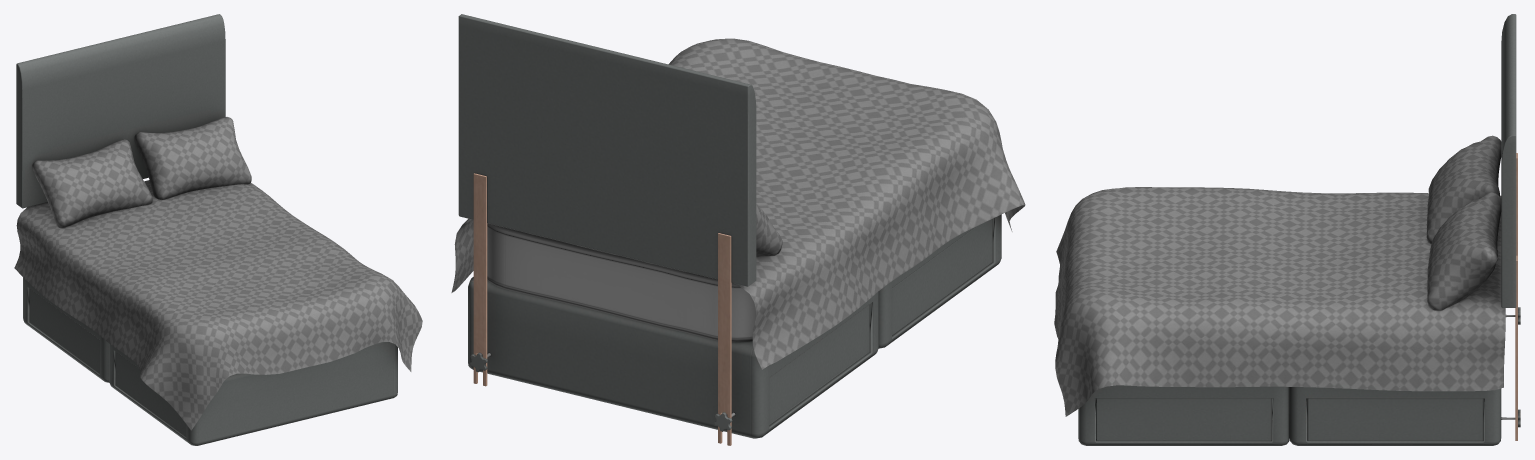
File: bed_double.glb
3 renders of one model, left to right at view 1: azimuth 30°, elevation 25°; view 2: azimuth 150°, elevation 25°; view 3: azimuth 270°, elevation 25°, orthographic. The views are drawn at different scales.
Visible parts, largest first — view 1: SM_Kingsize_Bed; view 2: SM_Kingsize_Bed; view 3: SM_Kingsize_Bed.
Boxes of the visible parts, x1,y1,x2,y2 form: SM_Kingsize_Bed: (14, 14, 422, 445); SM_Kingsize_Bed: (451, 14, 1025, 445); SM_Kingsize_Bed: (1054, 14, 1520, 445).
Size of the model in its own units: 328 by 295 by 399.
1 material, 1 textured.
